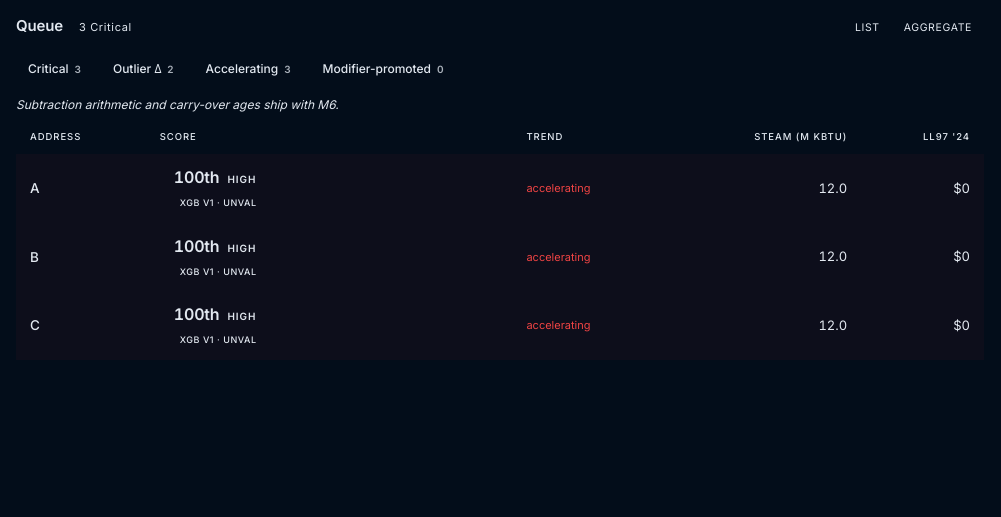
Test: CriticalQueue — M11 aggregate view › switches to Aggregate and shows filter expression + n + run stamp
Click the button "Aggregate" at (938, 28), box [894,16,982,40]
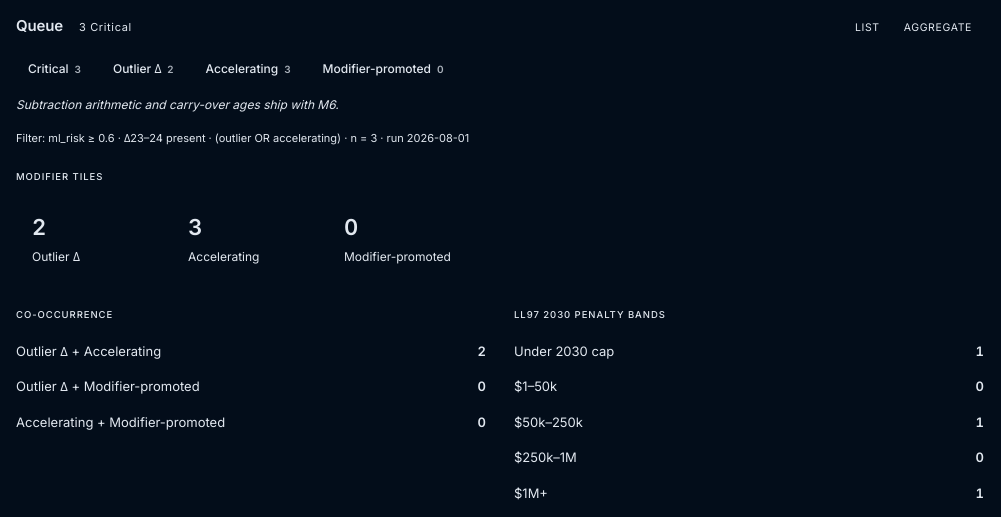
Expected: the text "Filter:" shows "ml_risk ≥ 0.6", [48,131,341,145]
Expected: the text "Filter:" shows "n = 3", [16,131,469,145]
Expected: the text "Filter:" shows "run 2026-08-01", [387,131,469,145]
